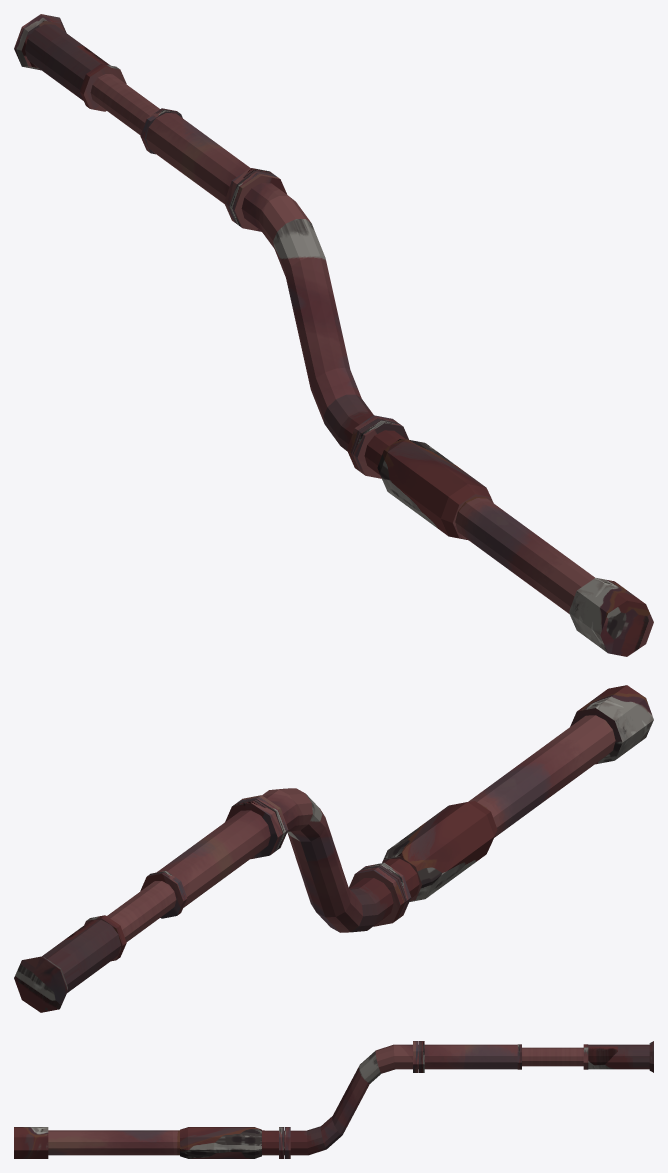
The model's file is pipe 3.fbx.
3 renders of one model, top to bottom at view 1: azimuth 30°, elevation 25°; view 2: azimuth 150°, elevation 25°; view 3: azimuth 270°, elevation 25°, orthographic. The views are drawn at different scales.
Visible parts, largest first — view 1: pipe 3; view 2: pipe 3; view 3: pipe 3.
Boxes of the visible parts, x1,y1,x2,y2 form: pipe 3: [14, 14, 653, 656]; pipe 3: [14, 685, 653, 1012]; pipe 3: [14, 1041, 653, 1158].
Bounding box in the file's own units: 54.13 × 206 × 1021.
